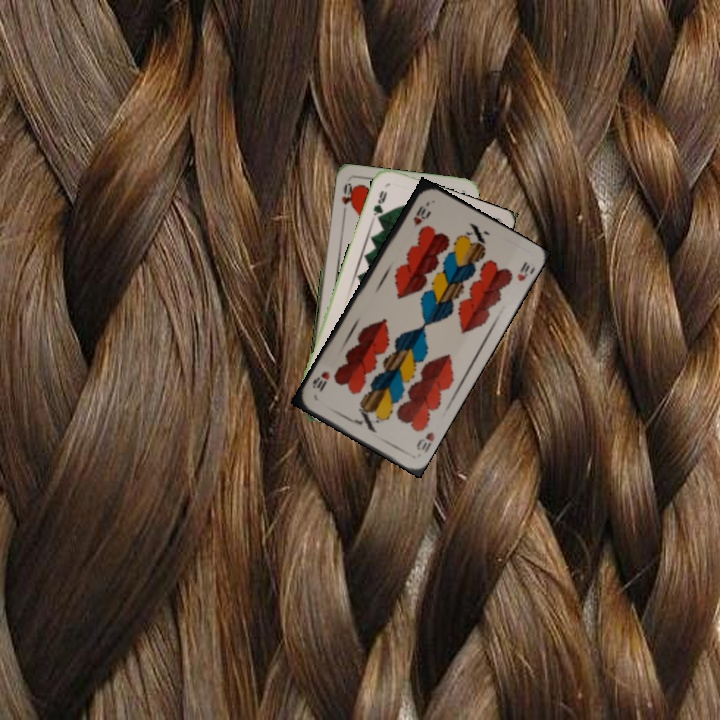G9: (369, 186, 390, 223)
H10: (412, 428, 438, 454), (409, 201, 429, 231)
HO: (337, 179, 354, 219)
